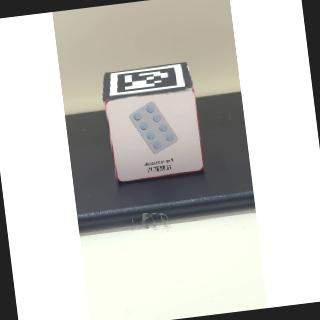Tablet: (106, 87, 203, 186)
